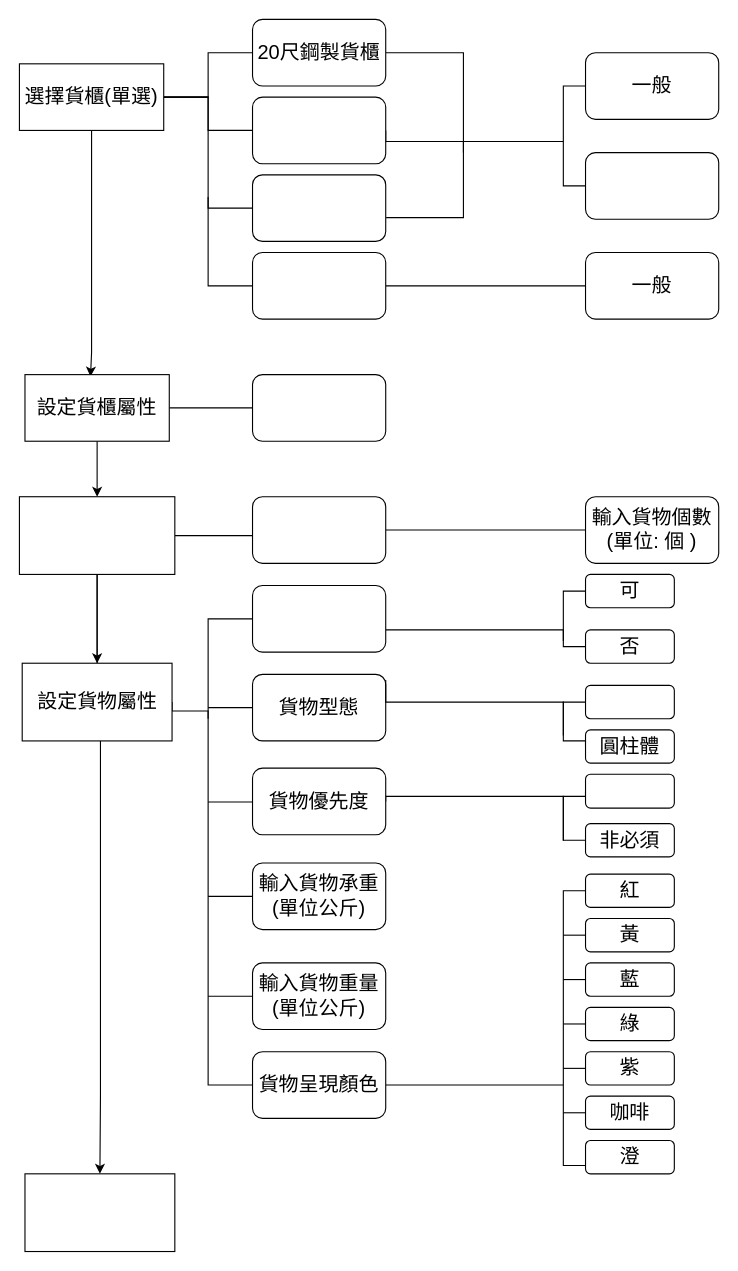
The diagram is 738 pixels wide and 1271 high, and some of its shapes have lost their labels. Each missing label, with the centre of its shape:
40尺超高貨櫃: the point at 318,207
40尺鋼製貨櫃: the point at 318,130
45尺超高貨櫃: the point at 318,285
必須裝箱: the point at 629,790
立方體: the point at 629,701
貨物可否倒放: the point at 318,618
輸入角件寬度: the point at 318,407
返回結果: the point at 99,1212
選擇貨物: the point at 318,529
選擇那些貨物要放進貨櫃(多選): the point at 96,535
開頂: the point at 651,185
